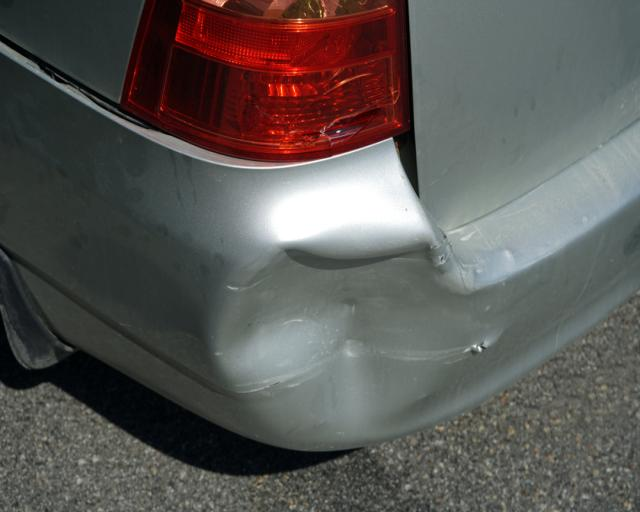dent: (216, 241, 471, 445)
lamp broken: (118, 0, 414, 163)
